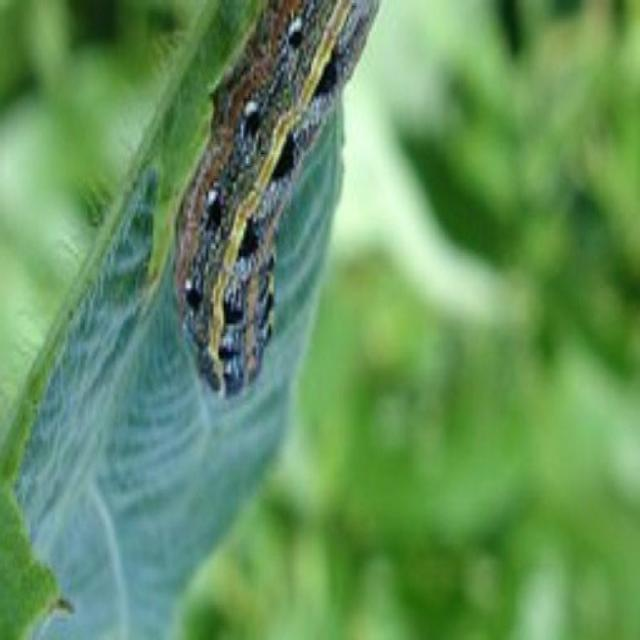army worm: (176, 2, 390, 405)
